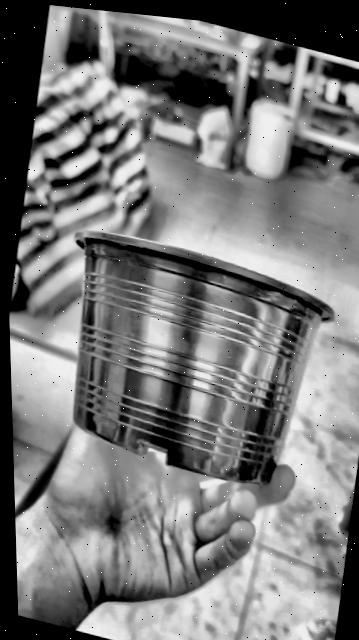pot: (73, 230, 331, 482)
